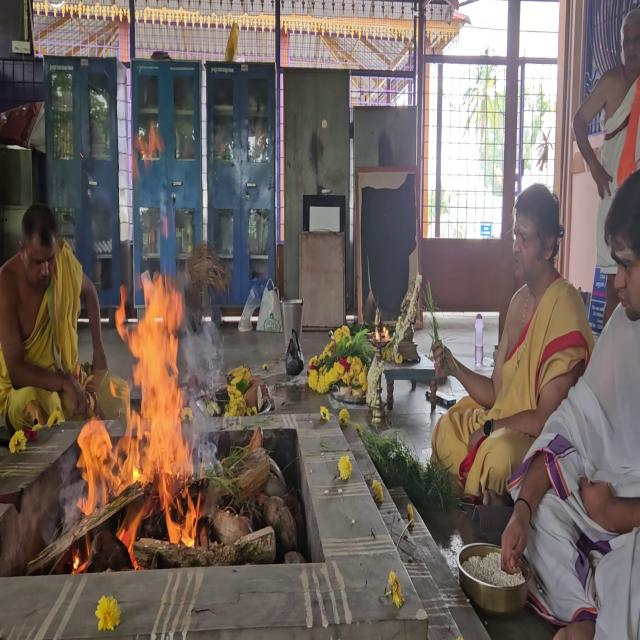fire: (80, 247, 208, 578)
